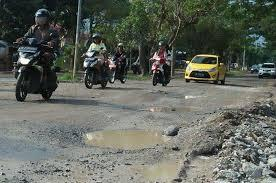Pothole: (0, 70, 212, 122), (112, 153, 246, 182), (59, 118, 173, 147), (219, 72, 276, 109)
